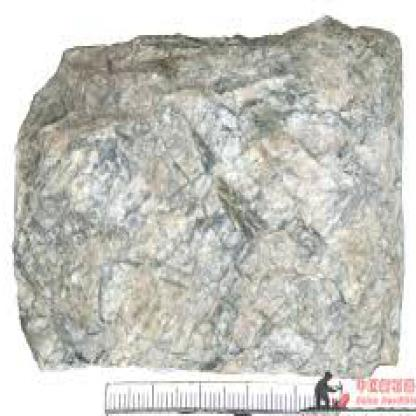Metamorphic_Quartize: (5, 15, 404, 377)
